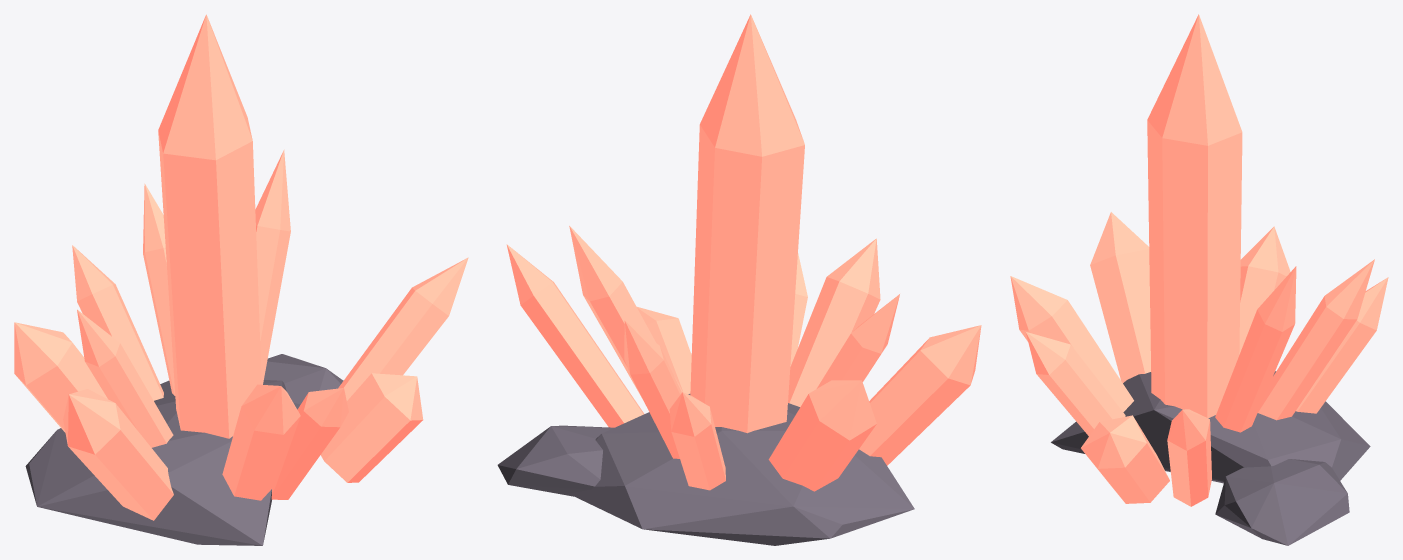
The model's file is Crystal_ClusterLarge_Red.glb.
The picture shows the model from 3 angles, left to right: view 1: azimuth 30°, elevation 25°; view 2: azimuth 150°, elevation 25°; view 3: azimuth 270°, elevation 25°; orthographic projection. The views are drawn at different scales.
Parts seen in each view (by area): view 1: Crystal_ClusterLarge_red; view 2: Crystal_ClusterLarge_red; view 3: Crystal_ClusterLarge_red.
Part boxes in pixels (<box>): Crystal_ClusterLarge_red: <box>14,14,468,545</box>; Crystal_ClusterLarge_red: <box>497,14,981,545</box>; Crystal_ClusterLarge_red: <box>1010,14,1388,545</box>.
Size of the model in its own units: 1.33 by 1.37 by 1.06.
